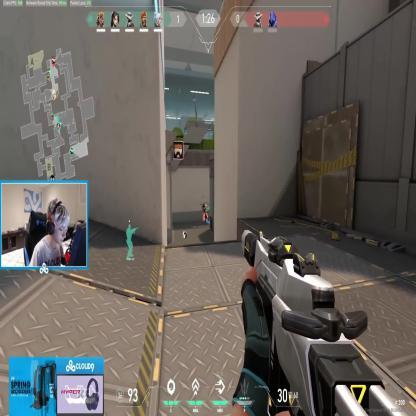enemy: (204, 204, 209, 224)
enemy_head: (205, 204, 207, 208)
